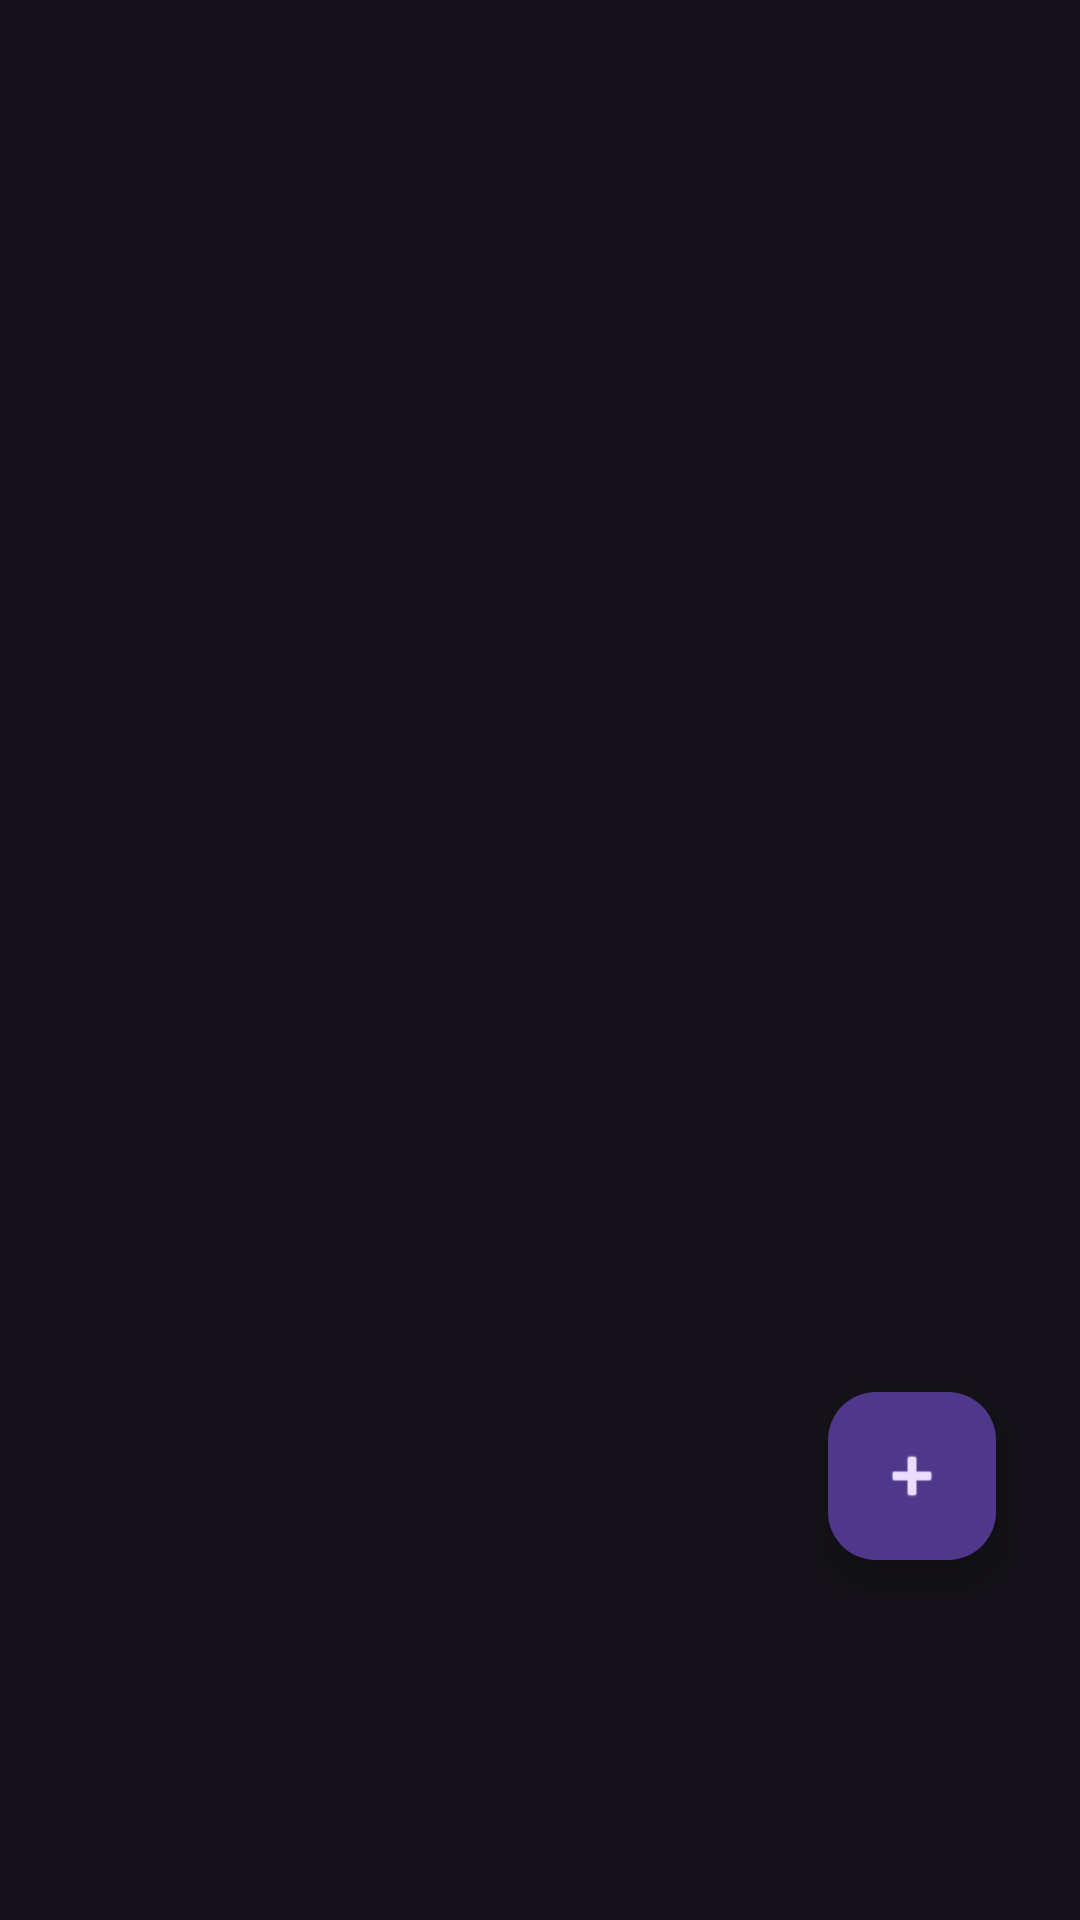

Screen size 1080 × 1920. Icon name, then its center in pixels as [x,y]:
add: [912,1476]
